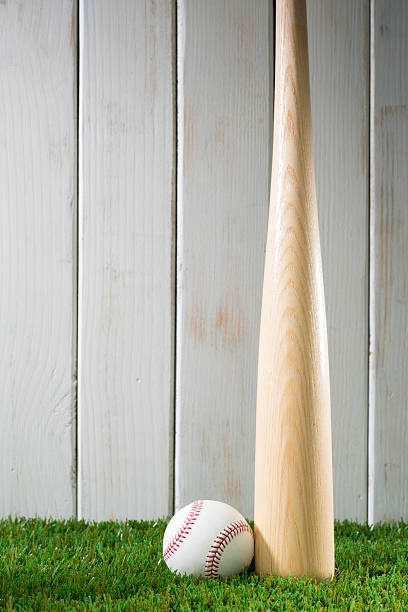bita: (256, 5, 339, 578)
